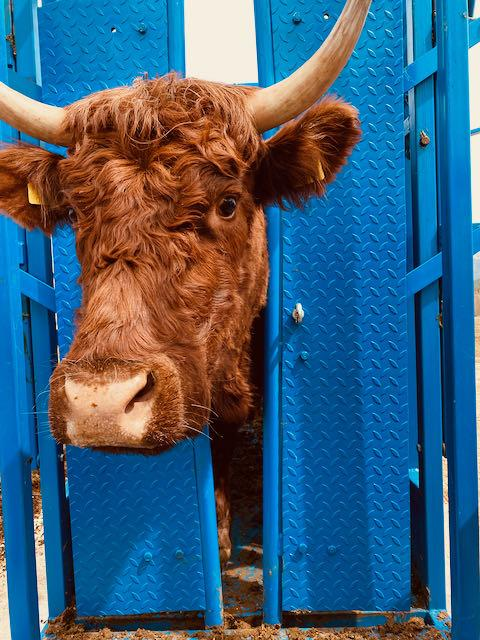muzzles: (37, 364, 188, 460)
